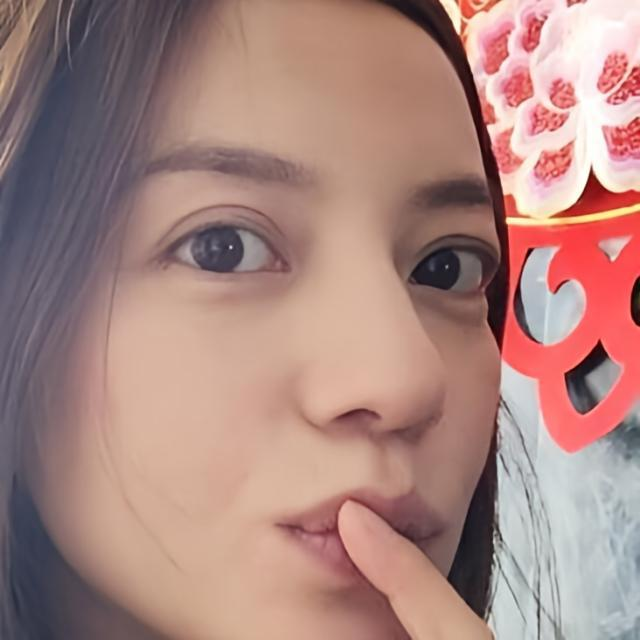surprise: (18, 0, 504, 640)
